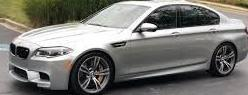Cars: (10, 2, 248, 95)
